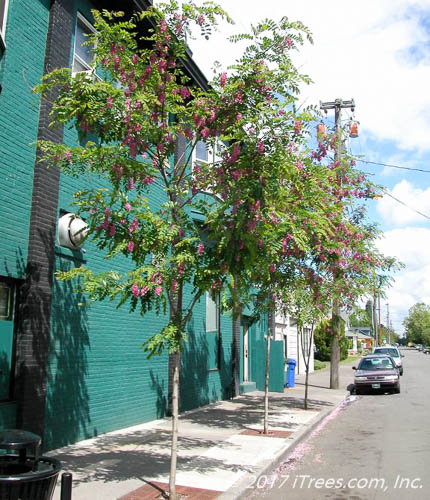tree: (28, 1, 323, 500)
